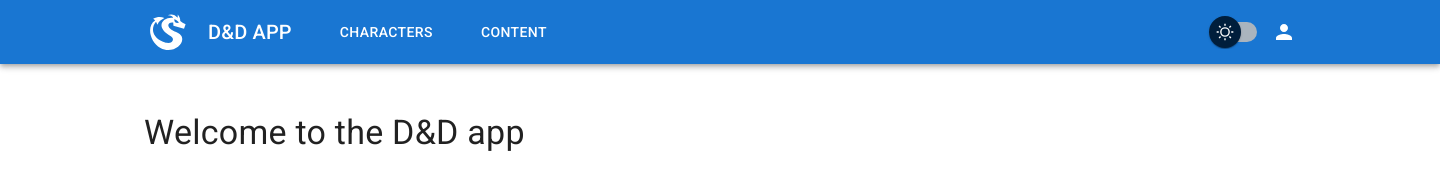
it: Automation TC02 Content page › should navigate to /content and display page content with title "content"
# Click on the "Content" link in the navbar
Click the button "content" at (514, 33), box [473,14,555,51]
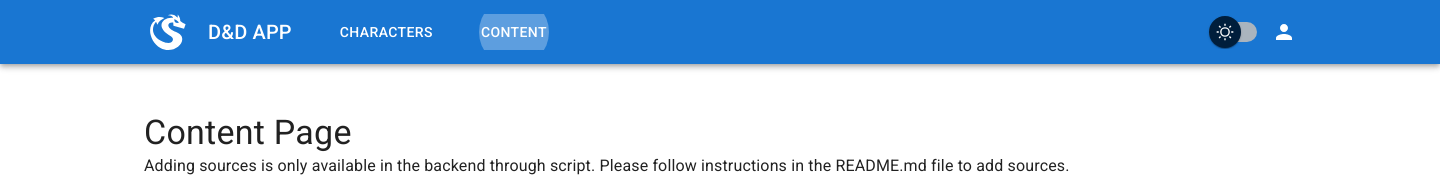
Result: the heading "Content Page" is shown at [144,112,352,152]
